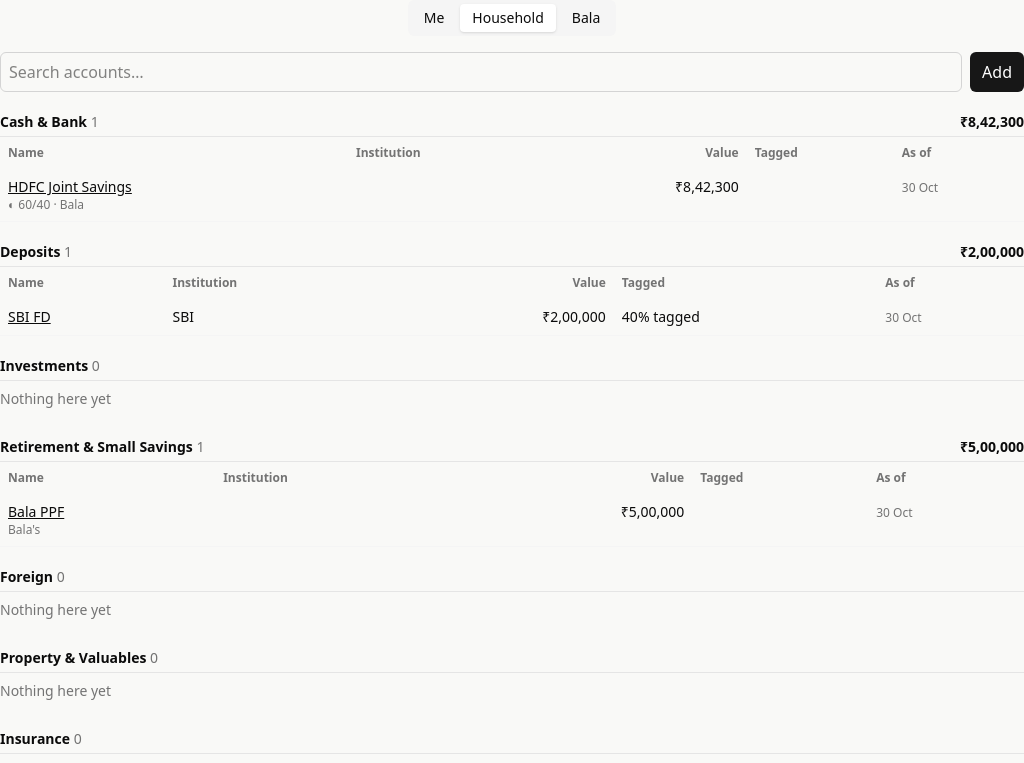
Test: Accounts › opens a record's edit form from its name
Click the button "SBI FD". click: (29, 317)
box: [8,307,51,327]
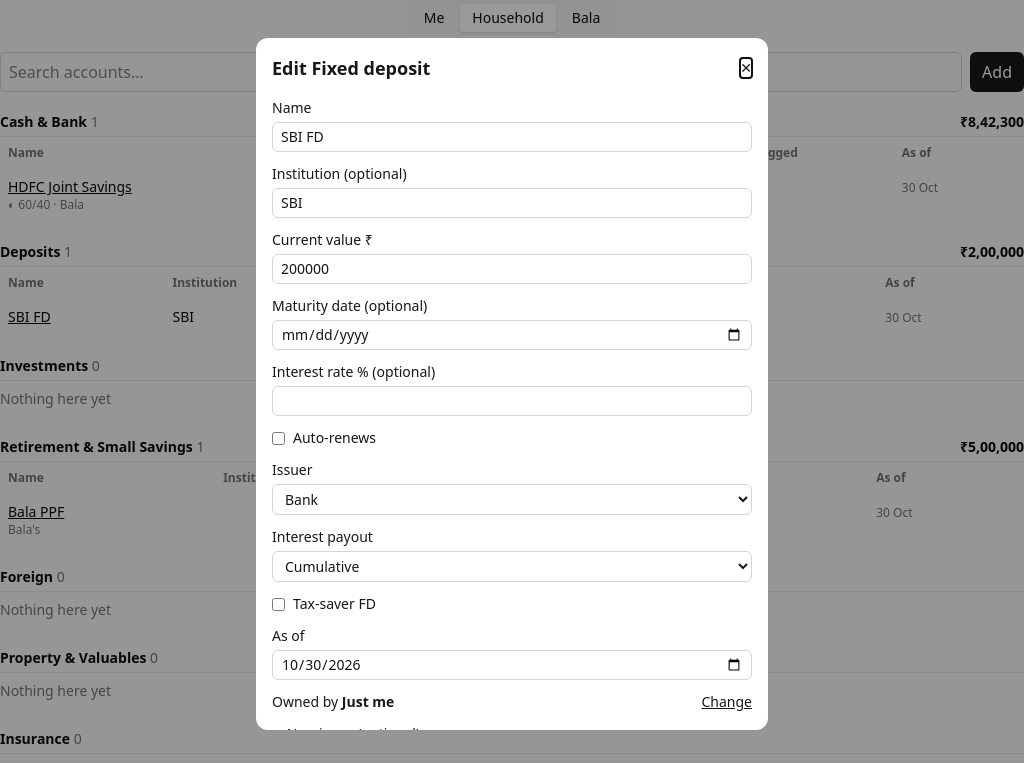
Result: the heading "Edit Fixed deposit" is shown at [272,56,430,80]
Result: the field labelled "Name" holds "SBI FD" at [272,122,752,152]
